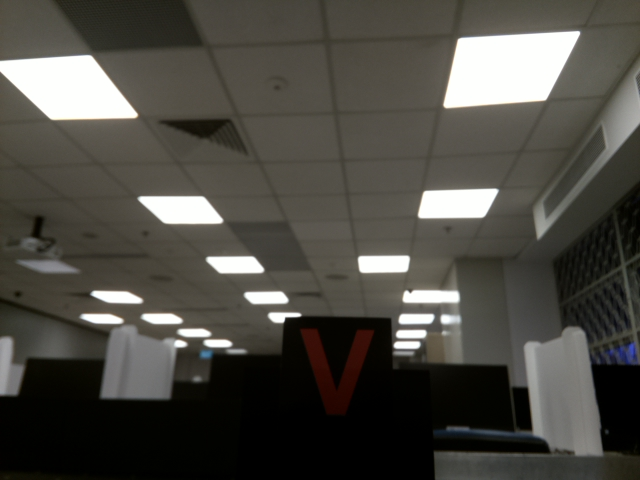v: (292, 328, 387, 421)
